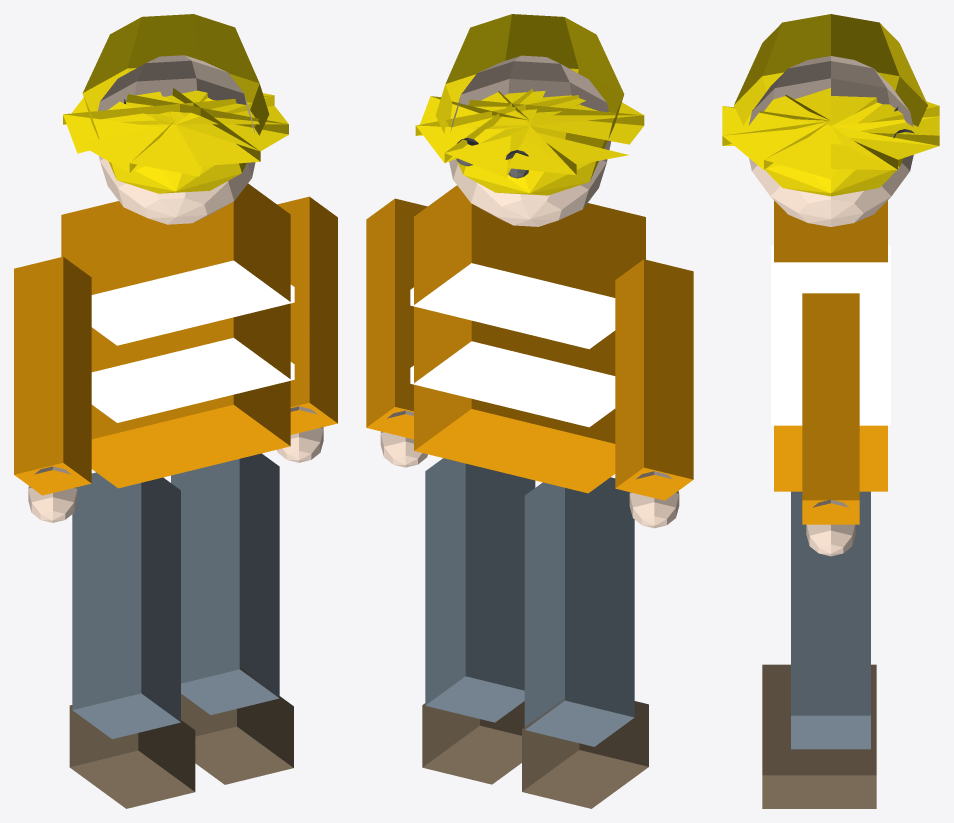
Rendered from worker.glb.
3 views of the same model, side by side, from view 1: azimuth 30°, elevation 25°; view 2: azimuth 150°, elevation 25°; view 3: azimuth 270°, elevation 25° (orthographic).
Visible parts, largest first — view 1: torso, legL, legR, armL, brim, helmet, armR, stripe2, stripe1, bootL, head, bootR (+2 smaller); view 2: torso, legL, legR, armL, brim, helmet, armR, stripe2, stripe1, head, bootL, bootR (+2 smaller); view 3: legR, armR, brim, helmet, torso, head, bootR, stripe1, stripe2, bootL, handR.
Boxes of the visible parts, box(x1,y1,x2,y2) form: torso: box(61, 183, 290, 488); legL: box(72, 472, 180, 739); legR: box(171, 453, 279, 714); armL: box(14, 256, 91, 495); brim: box(63, 88, 288, 176); helmet: box(82, 14, 269, 193); armR: box(277, 196, 337, 434); stripe2: box(91, 337, 294, 422); stripe1: box(91, 260, 294, 345); bootL: box(69, 692, 195, 808); head: box(98, 55, 255, 224); bootR: box(181, 667, 293, 784); torso: box(414, 185, 645, 493); legL: box(524, 477, 634, 746); legR: box(425, 458, 535, 722); armL: box(615, 259, 693, 500); brim: box(415, 88, 644, 177); helmet: box(435, 14, 624, 195); armR: box(366, 198, 427, 439); stripe2: box(410, 341, 615, 427); stripe1: box(410, 263, 615, 349); head: box(449, 55, 611, 226); bootL: box(522, 698, 648, 808); bootR: box(422, 701, 524, 784); legR: box(791, 491, 870, 749); armR: box(802, 293, 859, 524); brim: box(722, 88, 939, 179); helmet: box(734, 14, 927, 196); torso: box(774, 200, 887, 491); head: box(749, 56, 913, 226); bootR: box(762, 713, 876, 808); stripe1: box(771, 245, 890, 347); stripe2: box(771, 348, 890, 425); bootL: box(762, 664, 876, 712); handR: box(806, 499, 855, 556).
Size of the model in its own units: 0.6 by 1.45 by 0.3804.
